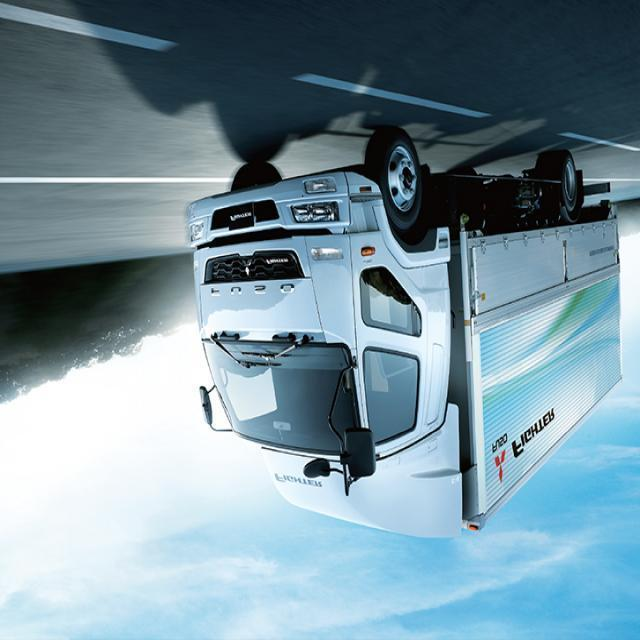truck: (182, 124, 618, 542)
